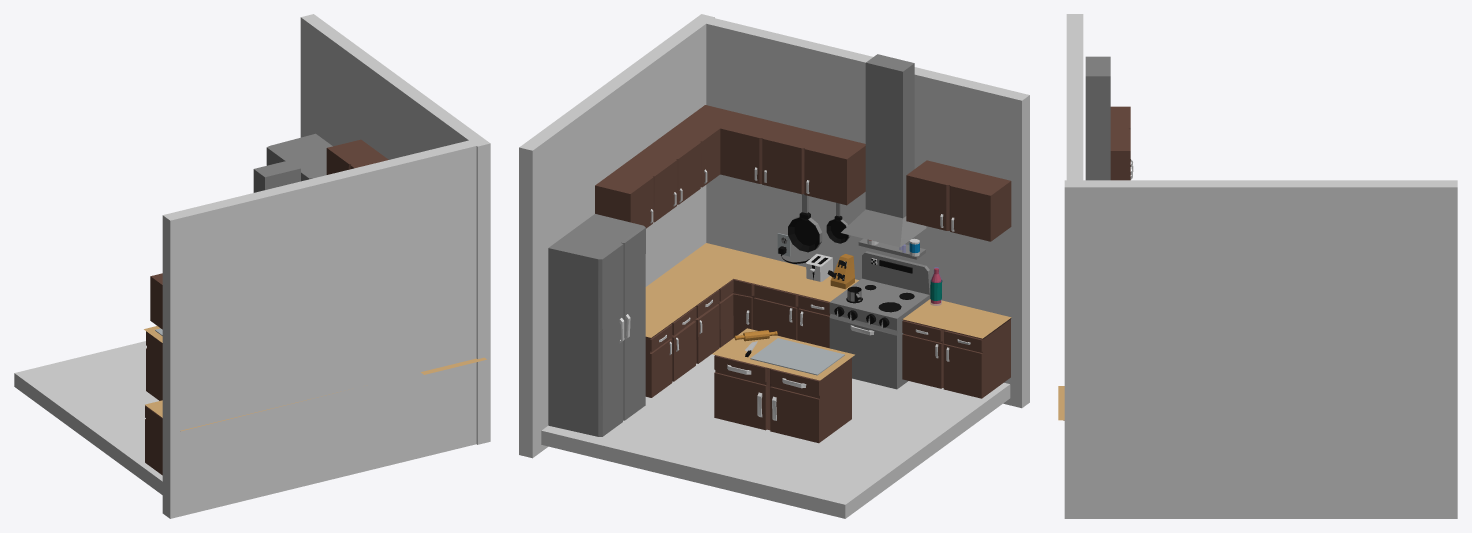
3 renders of one model, left to right at view 1: azimuth 30°, elevation 25°; view 2: azimuth 150°, elevation 25°; view 3: azimuth 270°, elevation 25°, orthographic. The views are drawn at different scales.
Parts seen in each view (by area): view 1: node_MeshObject1518059520-PolyPaper21; view 2: node_MeshObject1518059520-PolyPaper21; view 3: node_MeshObject1518059520-PolyPaper21.
Boxes of the visible parts, bbox=[...] form: node_MeshObject1518059520-PolyPaper21: bbox=[14, 14, 490, 518]; node_MeshObject1518059520-PolyPaper21: bbox=[519, 14, 1029, 518]; node_MeshObject1518059520-PolyPaper21: bbox=[1058, 14, 1457, 518].
Size of the model in its own units: 1.95 by 1.81 by 1.9.
